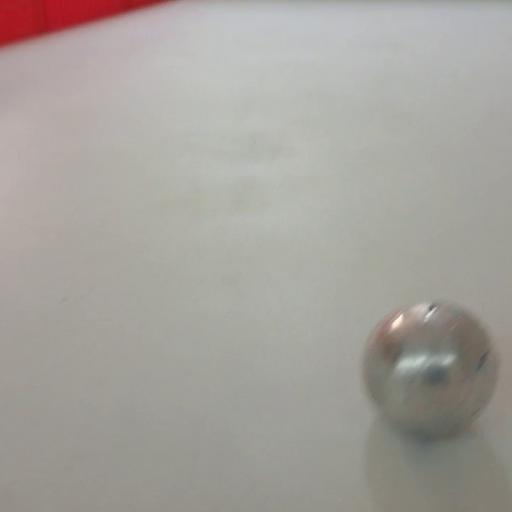alive: (357, 299, 501, 440)
